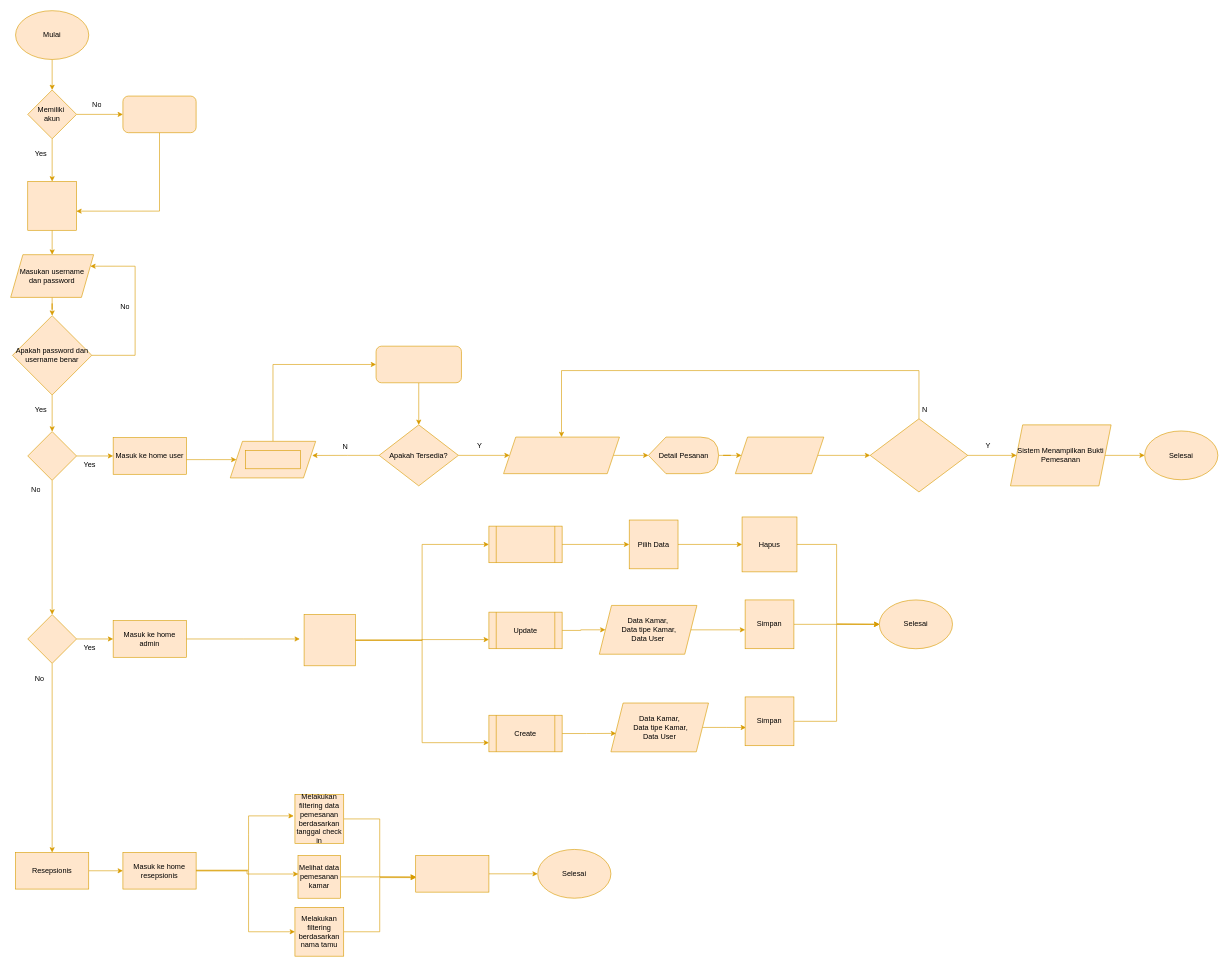
Image size: 1229x967. Some labels were removed from this diagram. Each missing label, with the box of its shape:
Admin: (27, 614, 77, 663)
Buat akun: (122, 95, 196, 133)
Delete: (488, 526, 562, 563)
Input tanggal CI/CO: (245, 450, 300, 469)
Konfirmasi Pesanan: (735, 436, 824, 474)
Login: (27, 181, 77, 230)
Melihat data kamar, tipe kamar, dan user: (303, 614, 355, 666)
Pesanan di konfirmasi resepsionis?: (870, 418, 968, 492)
Pilih Kamar dan Input data diri: (503, 436, 619, 474)
Proses Checking Tanggal: (375, 346, 461, 383)
User: (27, 431, 77, 480)
Verifikasi / merubah nama pemesanan: (415, 855, 489, 892)
